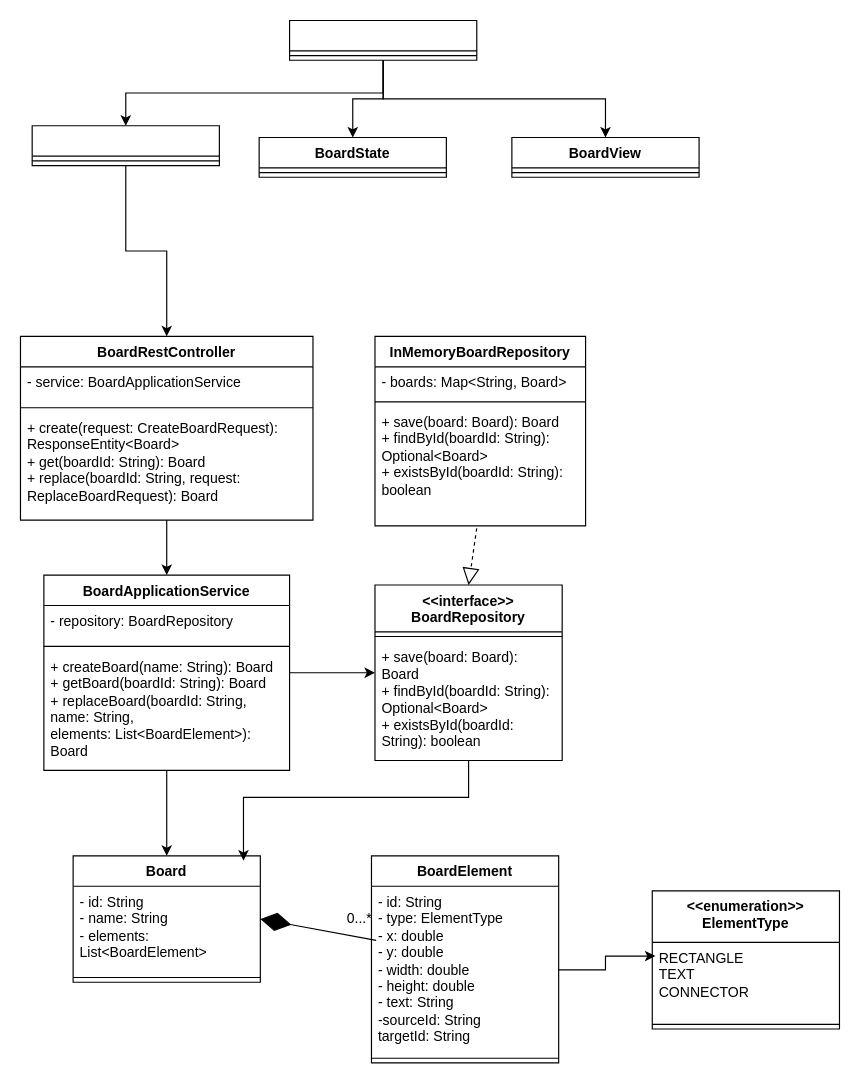
This 860x1083 diagram has some shape labels left out. The centre of each missing label's shape, as x and y in pixels:
"BoardApiClient" goes at pixel 125 145.
"BoardApp" goes at pixel 382 39.
